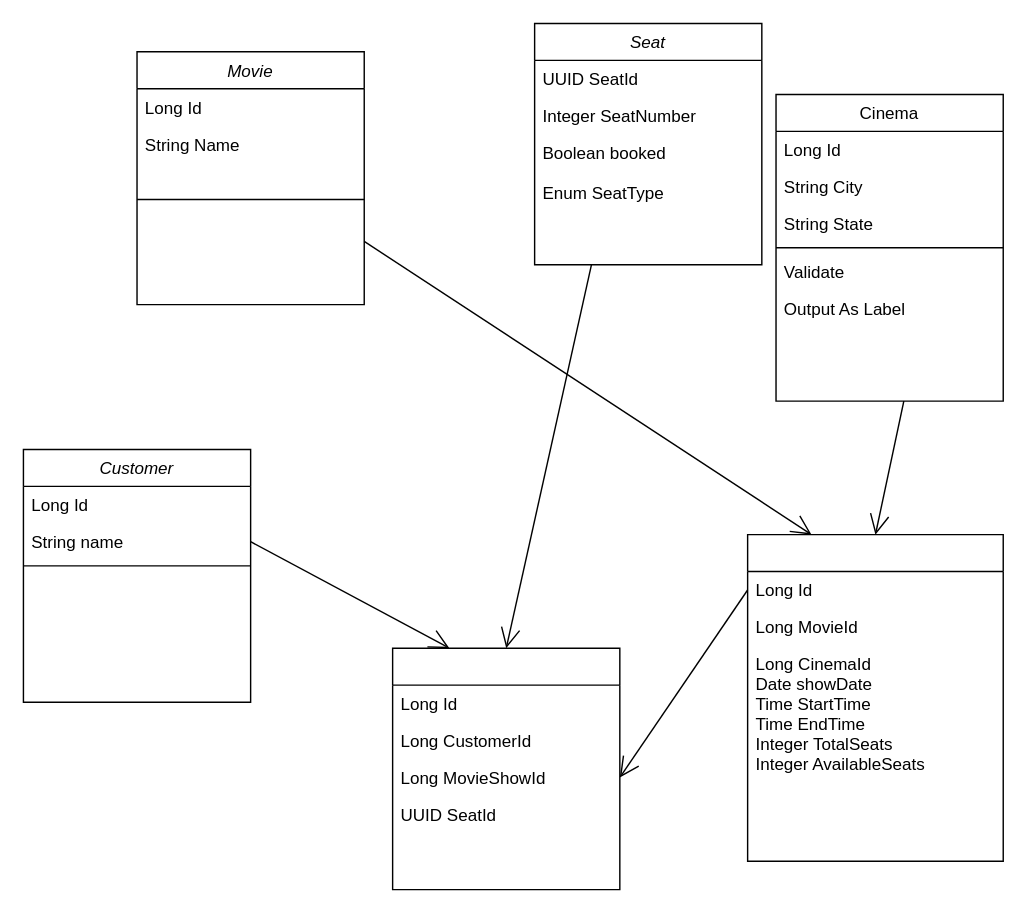
This 1027x913 diagram has some shape labels left out. Each missing label, with the box of its shape:
Bookings: (391, 647, 620, 890)
MovieShow: (746, 533, 1003, 861)
